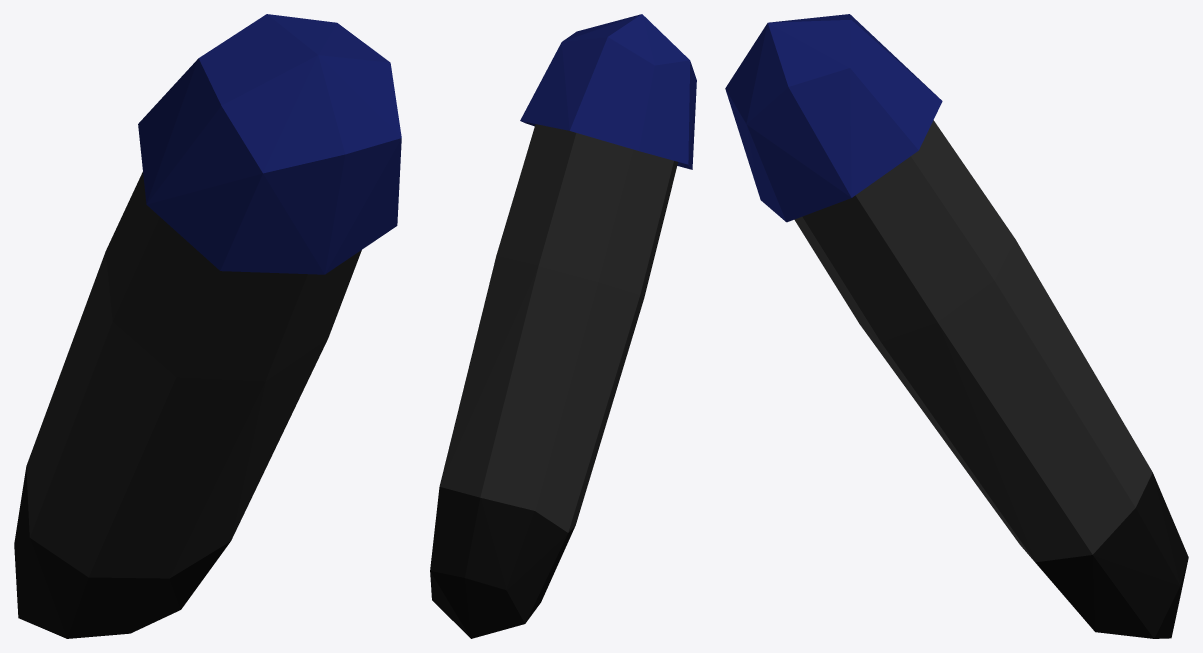
File: low_poly_raccoon_armRight.obj
The picture shows the model from 3 angles, left to right: view 1: azimuth 30°, elevation 25°; view 2: azimuth 150°, elevation 25°; view 3: azimuth 270°, elevation 25°; orthographic projection. The views are drawn at different scales.
Parts seen in each view (by area): view 1: armRight; view 2: armRight; view 3: armRight.
Boxes of the visible parts, <box> form: armRight: <box>14,14,401,638</box>; armRight: <box>430,14,696,638</box>; armRight: <box>725,14,1188,638</box>.
Bounding box in the file's own units: 0.1211 × 0.3591 × 0.2451.
